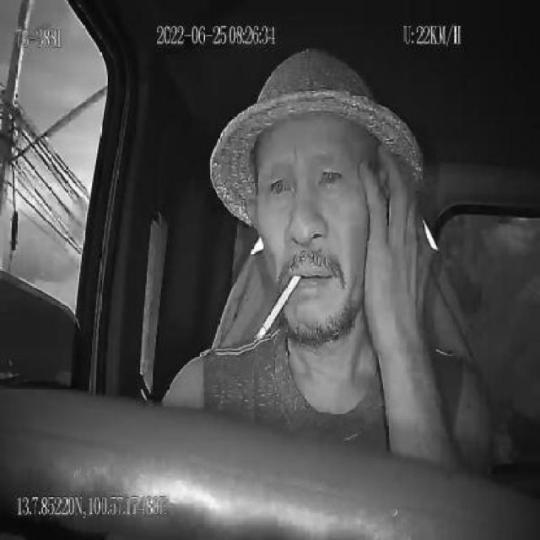smoking: (257, 269, 302, 341)
